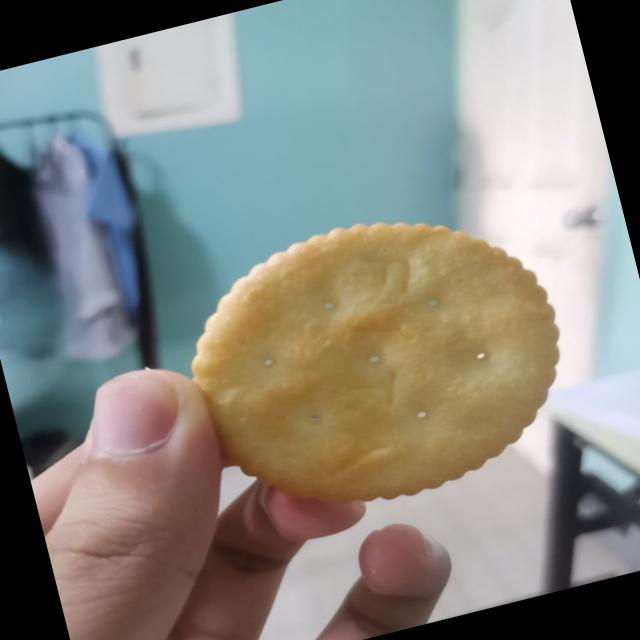intact biscuit: (162, 178, 592, 542)
